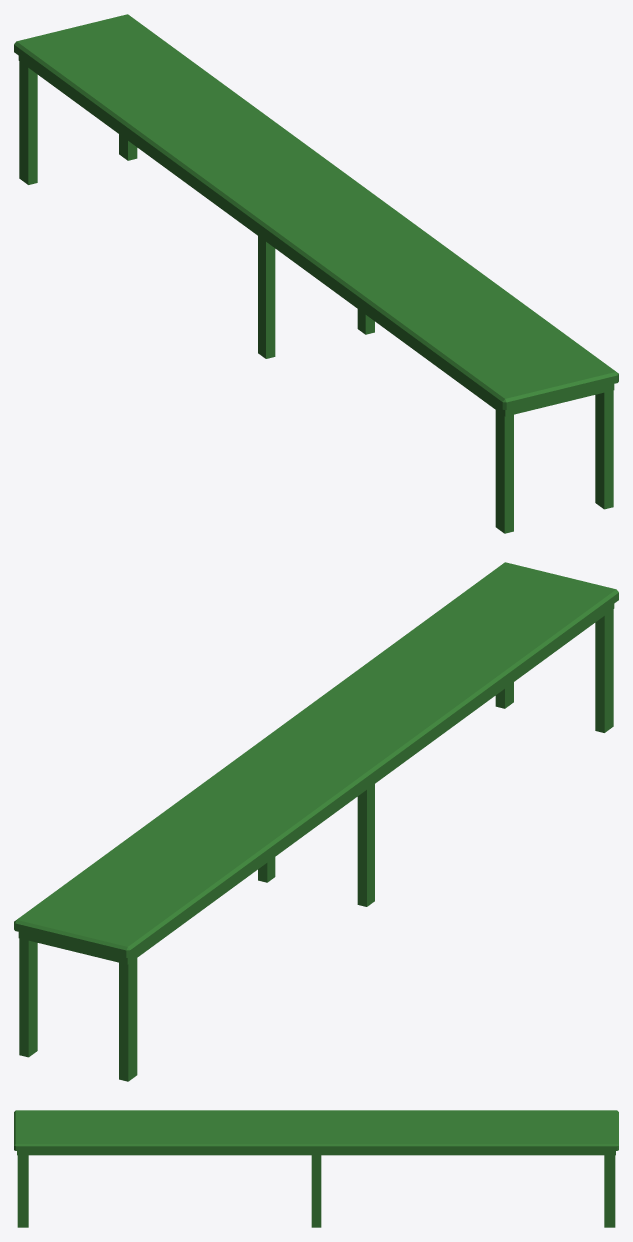
Rendered from 0_Other_004.fbx.
3 renders of one model, top to bottom at view 1: azimuth 30°, elevation 25°; view 2: azimuth 150°, elevation 25°; view 3: azimuth 270°, elevation 25°, orthographic. The views are drawn at different scales.
Visible parts, largest first — view 1: Other_004; view 2: Other_004; view 3: Other_004.
Part boxes in pixels (left/top/right/bottom): Other_004: left=14, top=14, right=618, bottom=533; Other_004: left=14, top=562, right=618, bottom=1081; Other_004: left=14, top=1110, right=618, bottom=1227.
Bounding box in the file's own units: 50.21 × 56.18 × 367.
